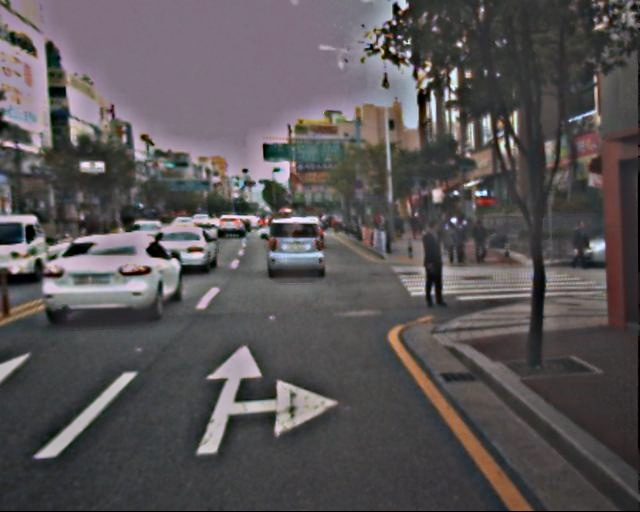person: (415, 220, 451, 308), (442, 216, 467, 263), (567, 220, 588, 270), (471, 220, 489, 263)
